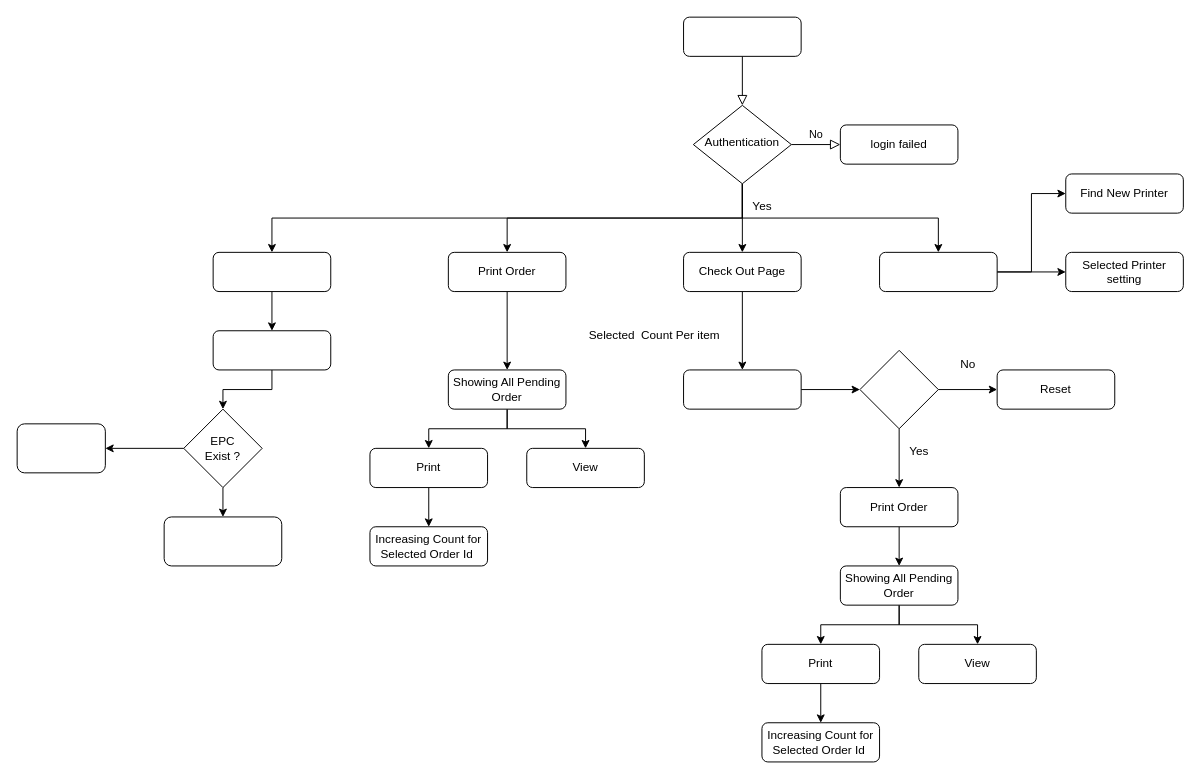
The diagram is 1201 pixels wide and 779 high, and some of its shapes have lost their labels. Here are the shapes that lost their labels. From the top down, the centre of each, then its label:
point (742, 36): Login
point (271, 271): Data Verification
point (938, 271): Printer Settings page
point (271, 350): Scan EPC
point (742, 389): Process To Checkout
point (898, 389): Confirm
point (60, 448): Try Again
point (222, 541): Fetch Data
